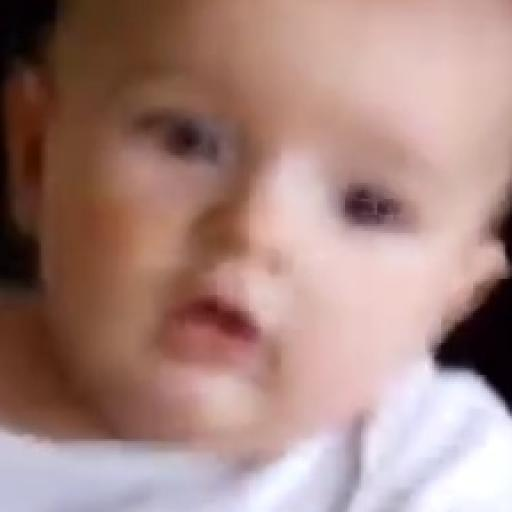Autism: (39, 0, 510, 491)
